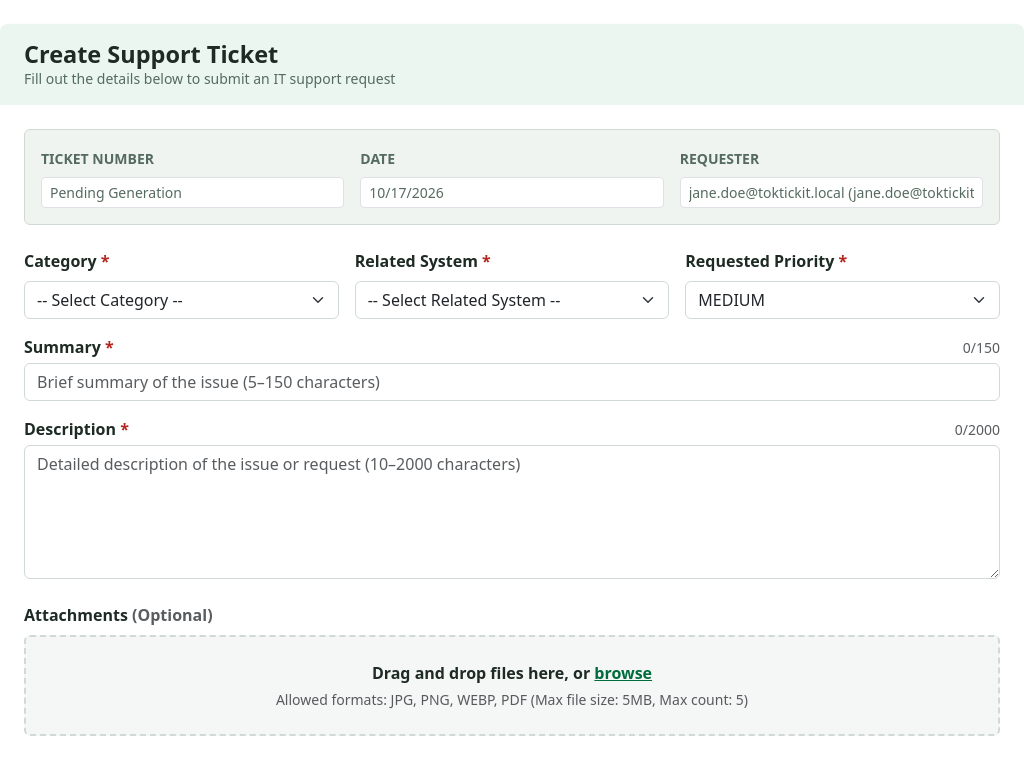
Test: CreateTicket UI Component (Lab 2 — GitHub Issue #4) › UI-03: validates summary and description minimum length limits
expect the dropdown labelled "Category *" is shown: met, box [24,281,339,319]
Step 1. Type "1234" into the field with placeholder "Brief summary of the issue (5–150 characters)" → (512, 382), box [24,363,1000,401]
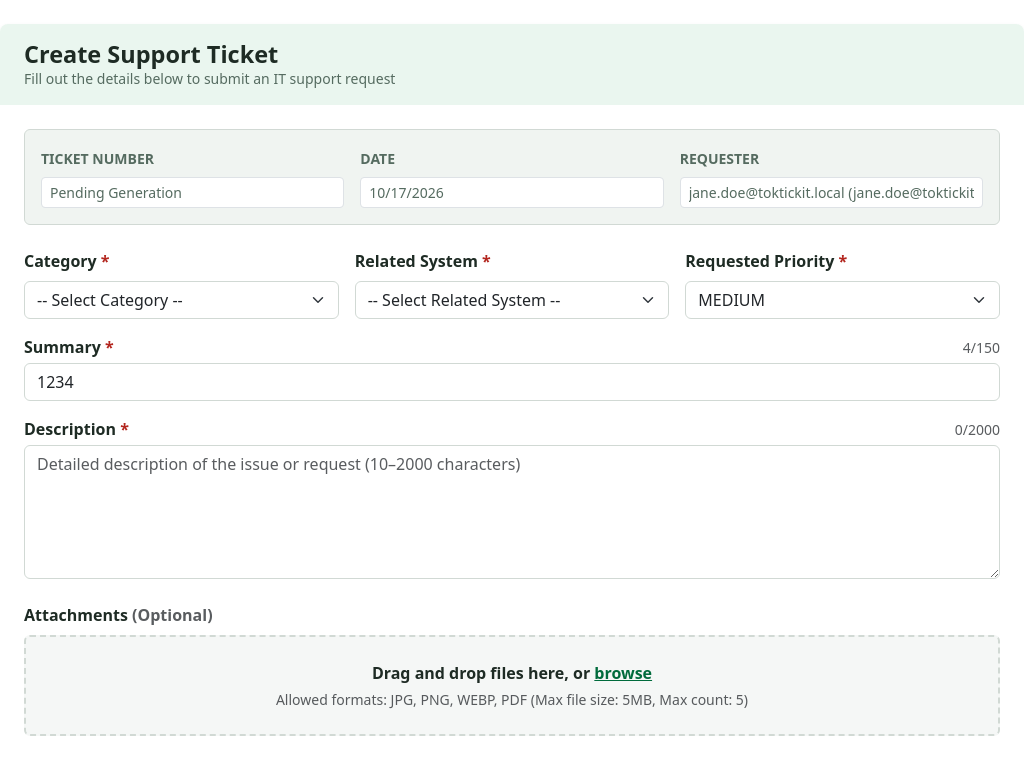
Step 2. Replace the text in the text box with placeholder "Detailed description" with "123456789" → (512, 512), box [24,445,1000,579]
(page scrolled)
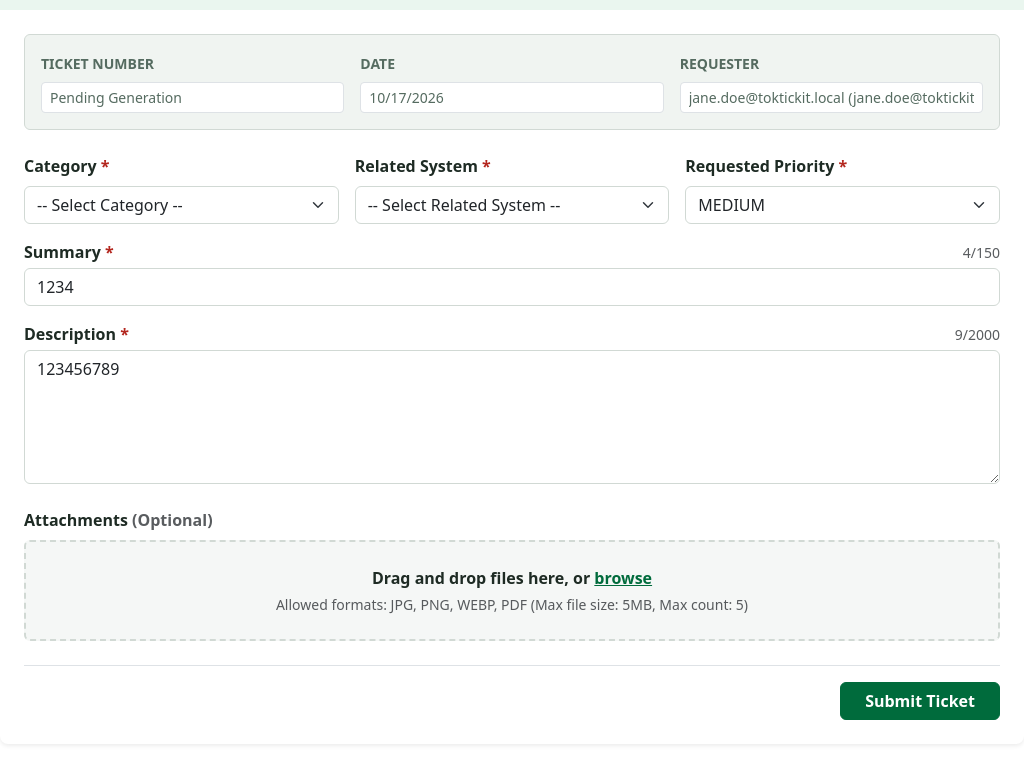
Step 3. Click the button "Submit Ticket" → (920, 701), box [840,682,1000,720]
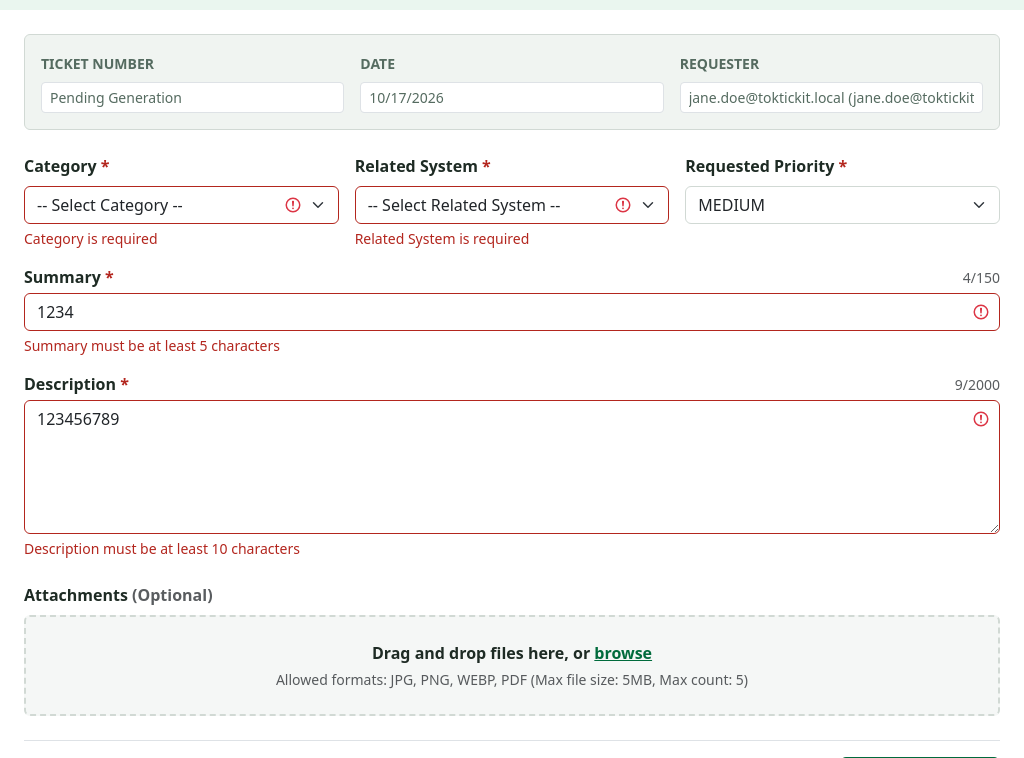
expect the text "Summary must be at least 5 characters" is shown: met, box [24,336,280,355]
expect the text "Description must be at least 10 characters" is shown: met, box [24,539,300,558]
